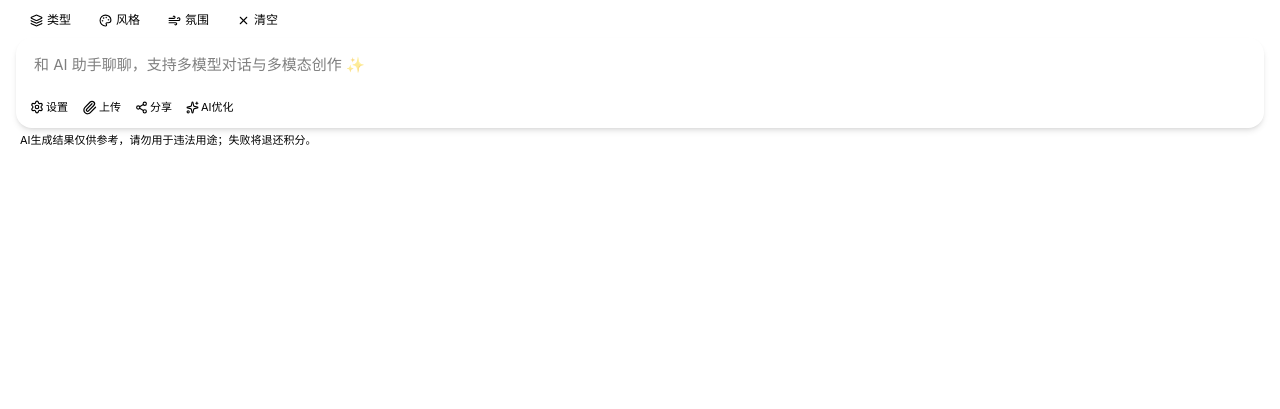
Test case: reference upload flow › shows gpt-image-2 ratio only
The image size is (1280, 409).
Click the button titled "参数设置".
click(49, 107)  # box top-left (24, 96), bottom-right (74, 118)
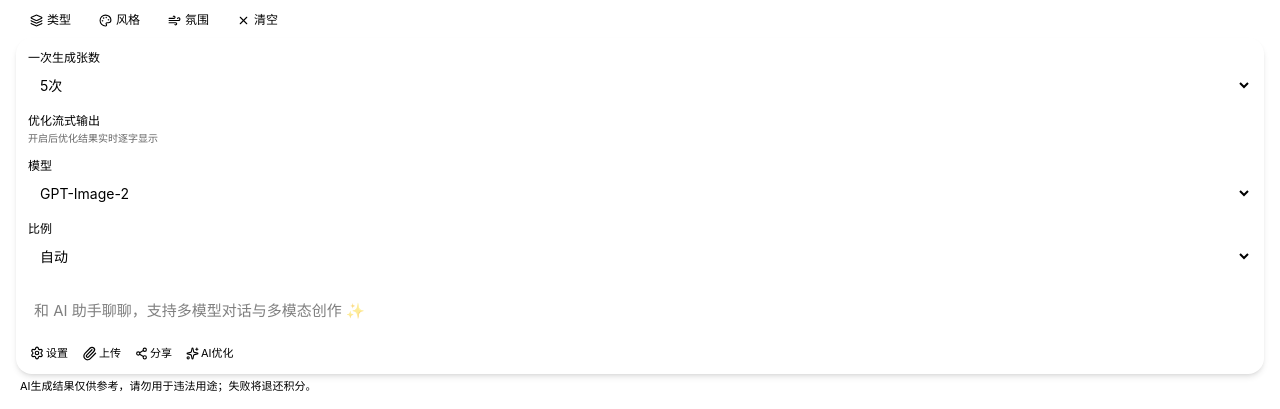
Expected: the text "模型" is shown, top-left (28, 158), bottom-right (52, 173)
Expected: the text "比例" is shown, top-left (28, 221), bottom-right (52, 236)
